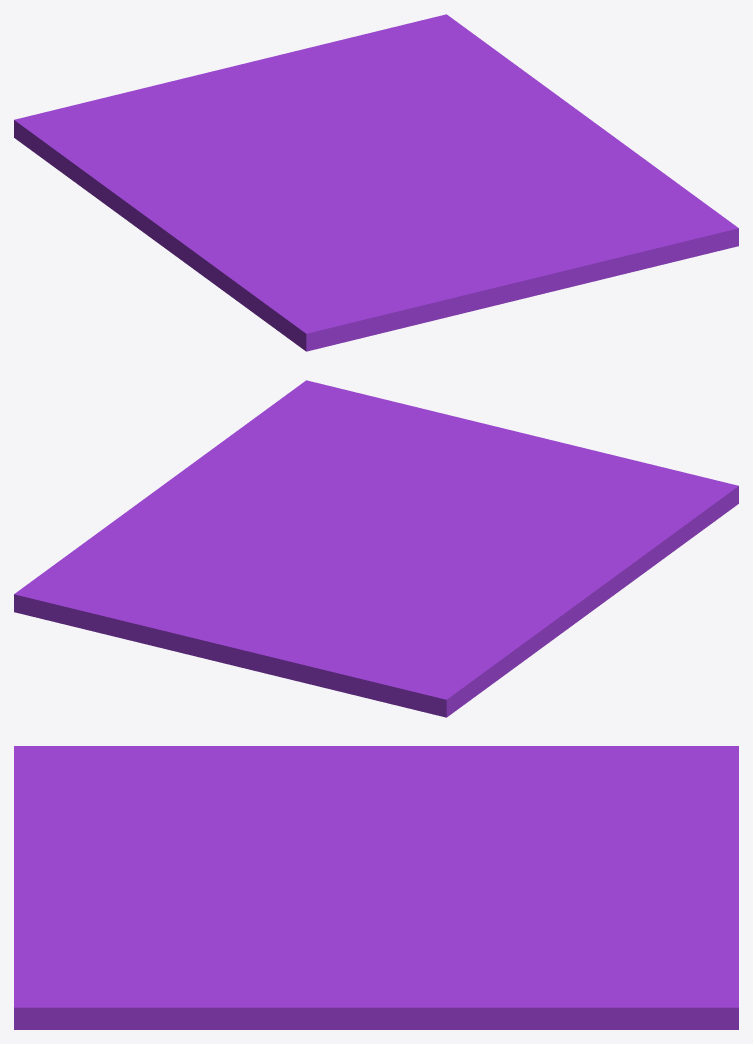
The model's file is Glass_86_chunks.fbx.
3 views of the same model, one above another, from view 1: azimuth 30°, elevation 25°; view 2: azimuth 150°, elevation 25°; view 3: azimuth 270°, elevation 25° (orthographic). The views are drawn at different scales.
Parts seen in each view (by area): view 1: Glass_86_9, Glass_86_4, Glass_86_5, Glass_86_7, Glass_86_1, Glass_86_8, Glass_86_2, Glass_86_3, Glass_86_13, Glass_86_11, Glass_86_15, Glass_86_17 (+5 smaller); view 2: Glass_86_5, Glass_86_9, Glass_86_4, Glass_86_7, Glass_86_1, Glass_86_8, Glass_86_2, Glass_86_13, Glass_86_11, Glass_86_3, Glass_86_15, Glass_86_17 (+5 smaller); view 3: Glass_86_5, Glass_86_4, Glass_86_9, Glass_86_7, Glass_86_2, Glass_86_1, Glass_86_8, Glass_86_13, Glass_86_3, Glass_86_15, Glass_86_11, Glass_86_6 (+5 smaller).
Part boxes in pixels (left/top/right/bottom): Glass_86_9: left=198, top=202, right=387, bottom=351; Glass_86_4: left=494, top=154, right=738, bottom=278; Glass_86_5: left=166, top=14, right=524, bottom=115; Glass_86_7: left=80, top=83, right=390, bottom=172; Glass_86_1: left=376, top=170, right=496, bottom=318; Glass_86_8: left=365, top=85, right=585, bottom=168; Glass_86_2: left=389, top=116, right=637, bottom=200; Glass_86_3: left=387, top=218, right=604, bottom=331; Glass_86_13: left=96, top=165, right=238, bottom=272; Glass_86_11: left=14, top=104, right=137, bottom=197; Glass_86_15: left=93, top=107, right=276, bottom=188; Glass_86_17: left=224, top=177, right=378, bottom=205; Glass_86_5: left=14, top=537, right=295, bottom=680; Glass_86_9: left=433, top=466, right=738, bottom=581; Glass_86_4: left=206, top=380, right=467, bottom=483; Glass_86_7: left=261, top=537, right=384, bottom=702; Glass_86_1: left=362, top=463, right=657, bottom=540; Glass_86_8: left=128, top=492, right=358, bottom=573; Glass_86_2: left=154, top=454, right=372, bottom=537; Glass_86_13: left=460, top=564, right=631, bottom=656; Glass_86_11: left=381, top=632, right=529, bottom=717; Glass_86_3: left=407, top=420, right=645, bottom=473; Glass_86_15: left=377, top=576, right=481, bottom=676; Glass_86_17: left=424, top=525, right=492, bottom=588; Glass_86_5: left=532, top=837, right=738, bottom=1029; Glass_86_4: left=14, top=904, right=263, bottom=1029; Glass_86_9: left=14, top=746, right=357, bottom=860; Glass_86_7: left=379, top=785, right=738, bottom=908; Glass_86_2: left=234, top=885, right=391, bottom=1029; Glass_86_1: left=14, top=795, right=379, bottom=913; Glass_86_8: left=380, top=886, right=536, bottom=1011; Glass_86_13: left=281, top=746, right=547, bottom=799; Glass_86_3: left=14, top=802, right=188, bottom=909; Glass_86_15: left=433, top=789, right=721, bottom=846; Glass_86_11: left=535, top=746, right=738, bottom=791; Glass_86_6: left=387, top=980, right=560, bottom=1029.
Size of the model in its own units: 756 by 29.87 by 885.
